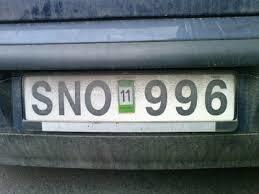license-plates: (23, 72, 238, 132)
